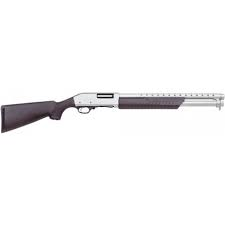weapon: (2, 88, 225, 135)
